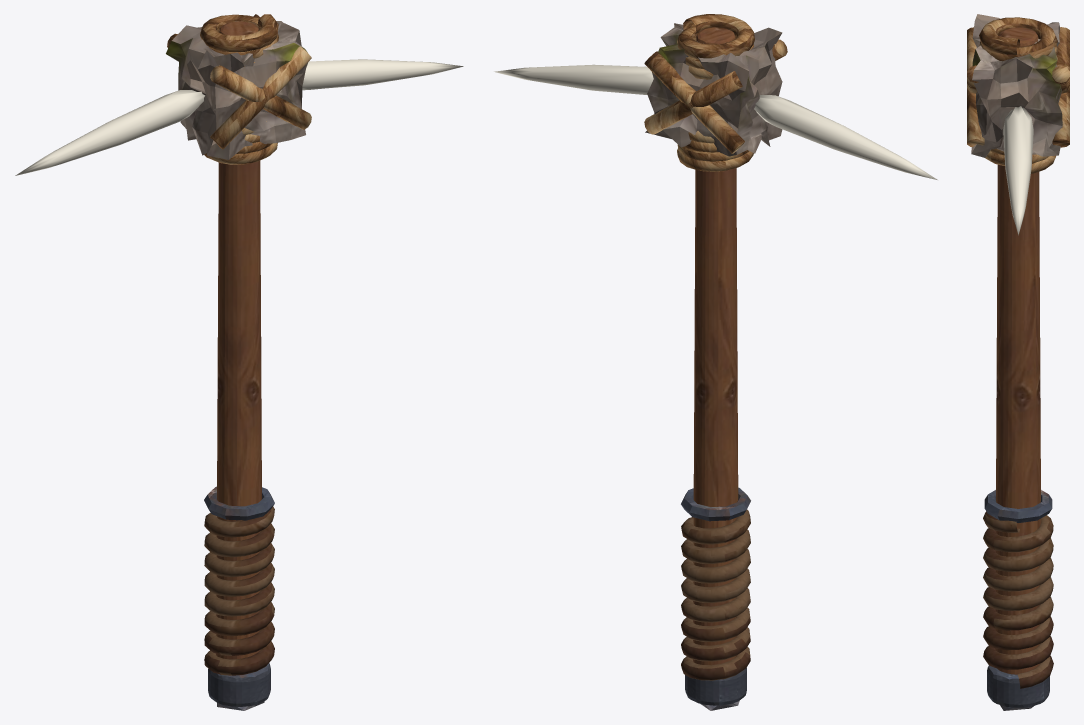
The model's file is pickaxe_fang.glb.
The picture shows the model from 3 angles, left to right: view 1: azimuth 30°, elevation 25°; view 2: azimuth 150°, elevation 25°; view 3: azimuth 270°, elevation 25°; orthographic projection.
Visible parts, largest first — view 1: model; view 2: model; view 3: model.
Part boxes in pixels (left/top/right/bottom): model: left=15, top=14, right=463, bottom=710; model: left=494, top=14, right=937, bottom=710; model: left=967, top=14, right=1069, bottom=710.
Bounding box in the file's own units: 0.5076 × 0.7393 × 0.1011.
6 materials, 5 textured.
